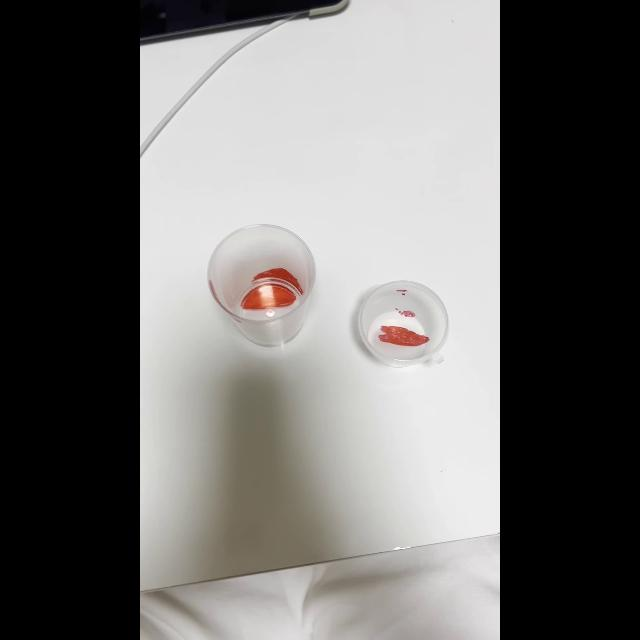dirty: (204, 224, 326, 356), (362, 276, 454, 374)
